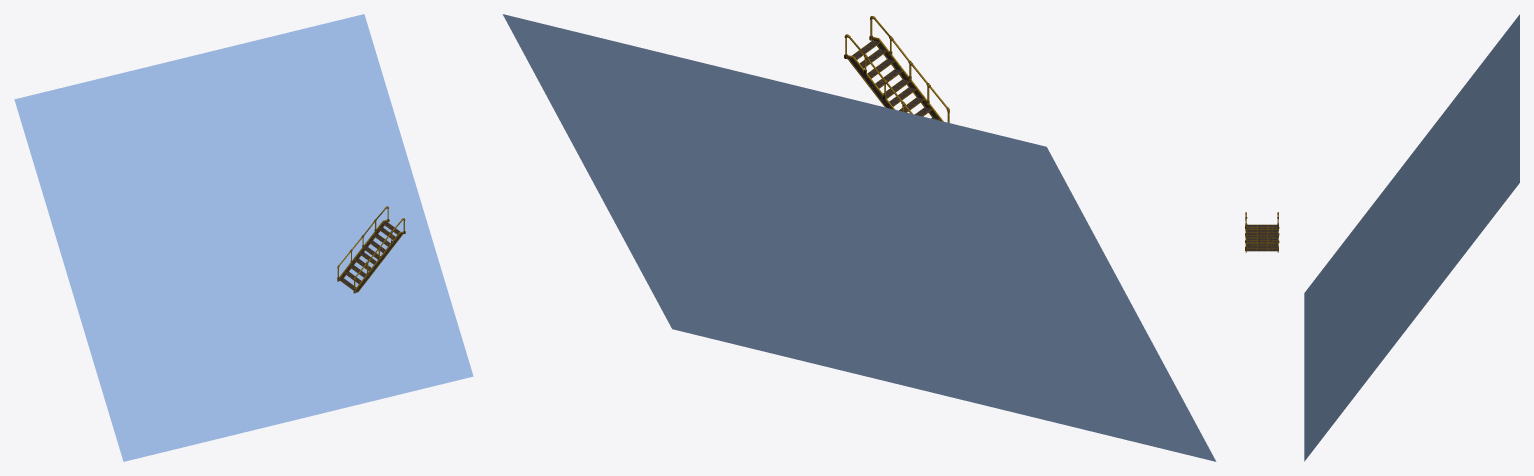
Rendered from stairs.obj.
3 views of the same model, side by side, from view 1: azimuth 30°, elevation 25°; view 2: azimuth 150°, elevation 25°; view 3: azimuth 270°, elevation 25° (orthographic). The views are drawn at different scales.
Visible parts, largest first — view 1: Plane001, ARCH_Stairs_Steel_Tall; view 2: Plane001, ARCH_Stairs_Steel_Tall; view 3: Plane001, ARCH_Stairs_Steel_Tall.
Part boxes in pixels (x1=…): Plane001: x1=14, y1=14, x2=473, y2=461; ARCH_Stairs_Steel_Tall: x1=337, y1=206, x2=405, y2=293; Plane001: x1=502, y1=14, x2=1216, y2=461; ARCH_Stairs_Steel_Tall: x1=844, y1=16, x2=949, y2=122; Plane001: x1=1304, y1=14, x2=1519, y2=461; ARCH_Stairs_Steel_Tall: x1=1245, y1=212, x2=1279, y2=252.
Bounding box in the file's own units: 990 × 764 × 682.
